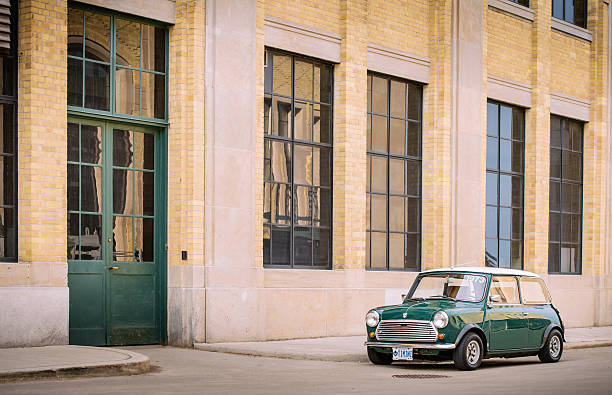licence: (386, 343, 416, 364)
